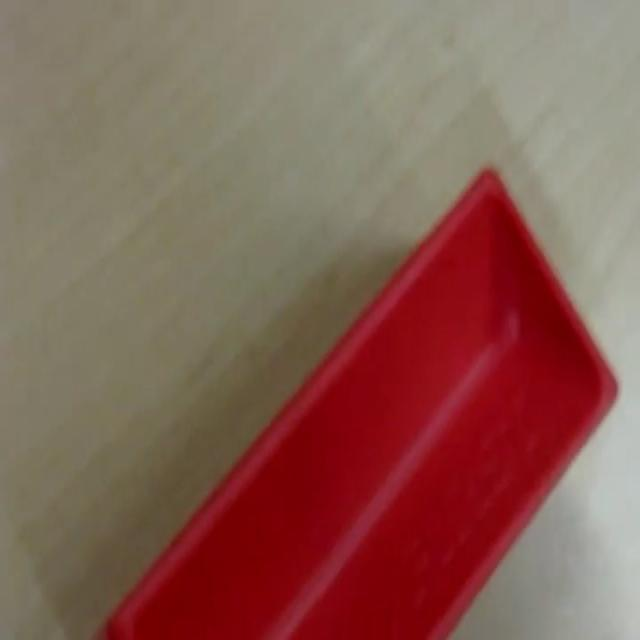red_block: (92, 163, 620, 637)
